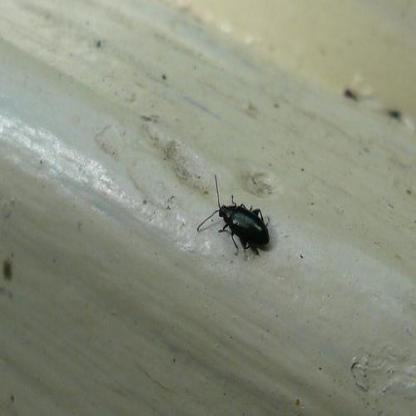beetle: (208, 172, 275, 266)
